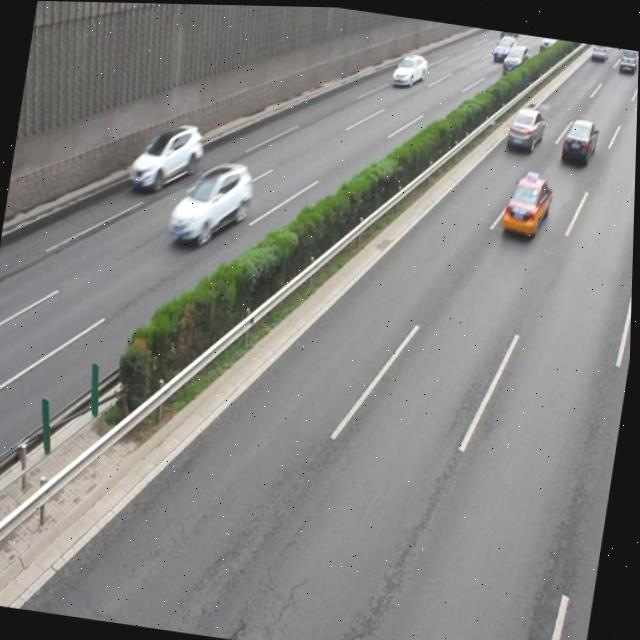car: (167, 151, 257, 251), (128, 114, 207, 195), (500, 165, 555, 236), (558, 113, 601, 165), (504, 100, 547, 150)
